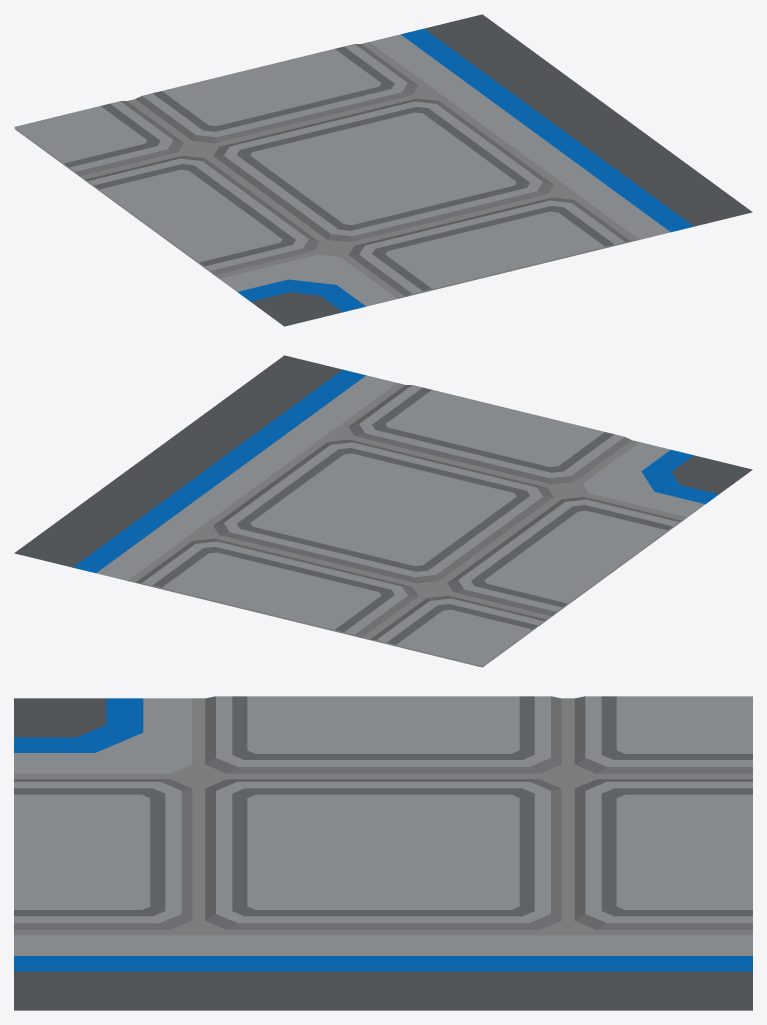
File: Floor_type_B_037.fbx
The picture shows the model from 3 angles, top to bottom: view 1: azimuth 30°, elevation 25°; view 2: azimuth 150°, elevation 25°; view 3: azimuth 270°, elevation 25°; orthographic projection. The views are drawn at different scales.
Visible parts, largest first — view 1: Floor_type_B_037; view 2: Floor_type_B_037; view 3: Floor_type_B_037.
Boxes of the visible parts, box(x1,y1,x2,y2) form: Floor_type_B_037: box(14, 14, 752, 326); Floor_type_B_037: box(14, 355, 752, 667); Floor_type_B_037: box(14, 696, 752, 1010).
Bounding box in the file's own units: 400 × 400 × 1.34.
